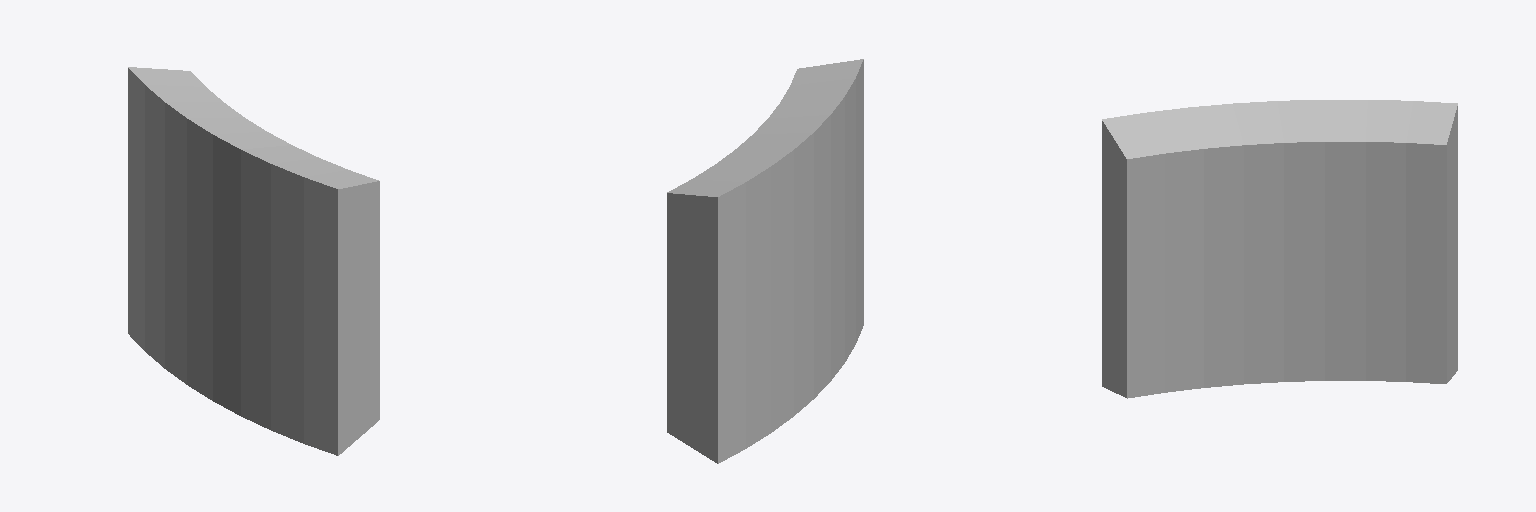
File: CircleBlock17.obj
The picture shows the model from 3 angles: view 1: azimuth 30°, elevation 25°; view 2: azimuth 150°, elevation 25°; view 3: azimuth 270°, elevation 25°; orthographic projection.
Visible parts, largest first — view 1: CircleBlock17; view 2: CircleBlock17; view 3: CircleBlock17.
Boxes of the visible parts, x1=… form: CircleBlock17: x1=128, y1=67, x2=379, y2=455; CircleBlock17: x1=667, y1=59, x2=863, y2=463; CircleBlock17: x1=1102, y1=100, x2=1457, y2=398.
Size of the model in its own units: 1.91 by 5.14 by 6.22.